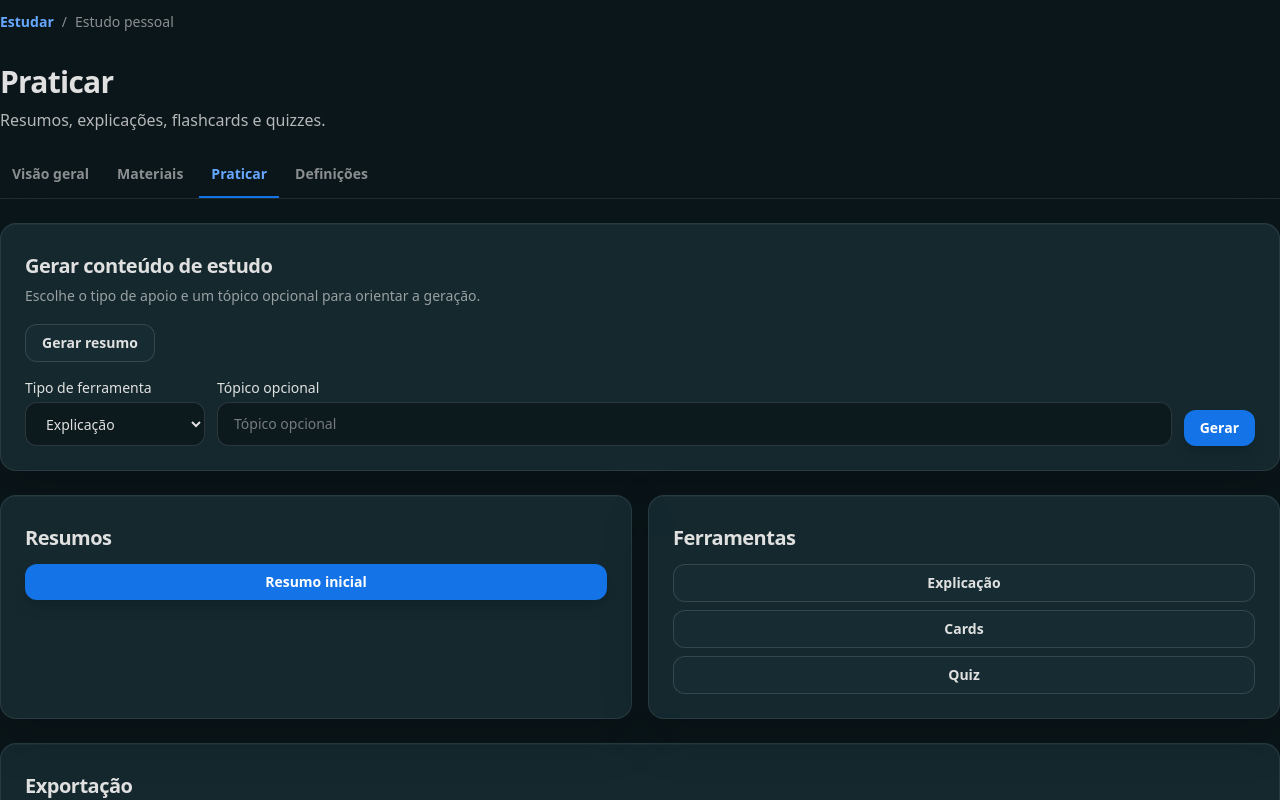
Test: StudyToolsPage › serializa resumo e ferramenta no mesmo ciclo assíncrono
Click the button "Gerar resumo" at (90, 343), box [25, 324, 155, 362]
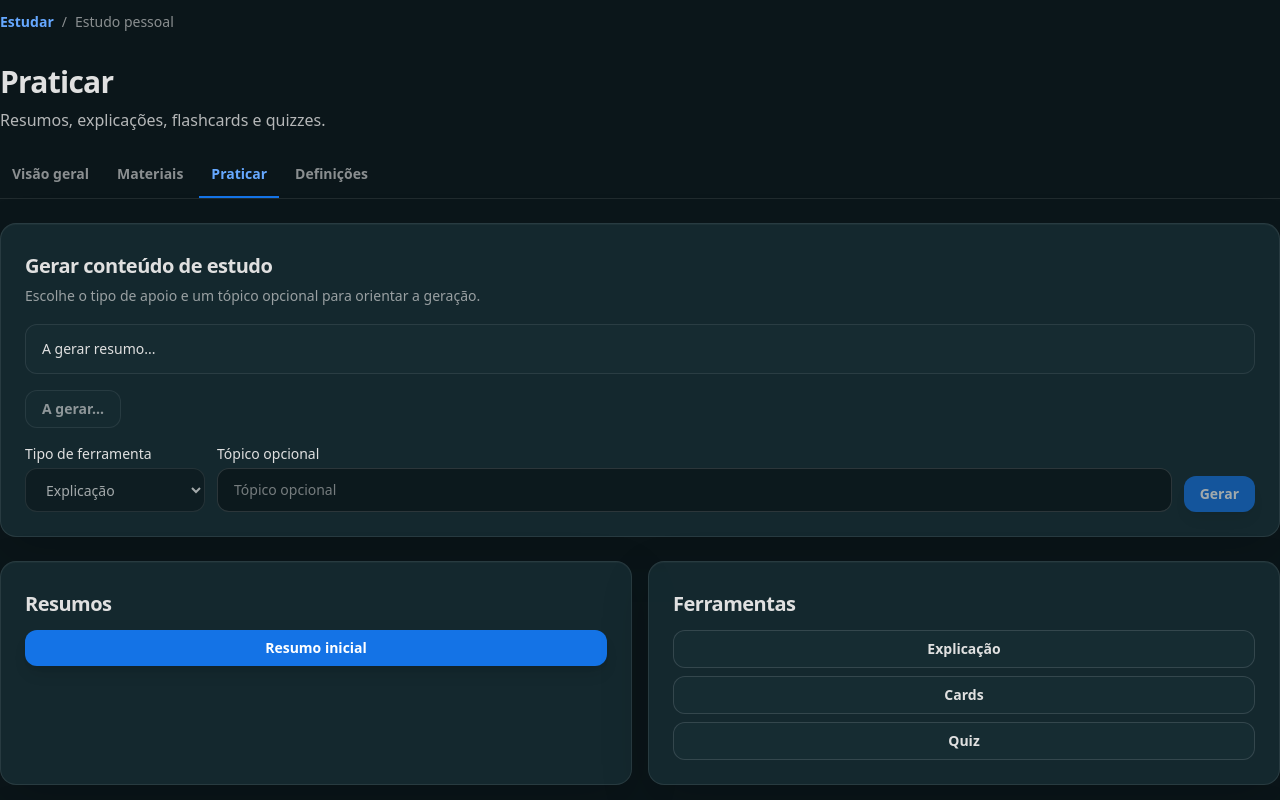
Check: the button "A gerar..." is disabled, box [25, 390, 121, 428]
Check: the button "Gerar" is disabled
Click the button "Gerar" at (1219, 494), box [1184, 476, 1255, 512]
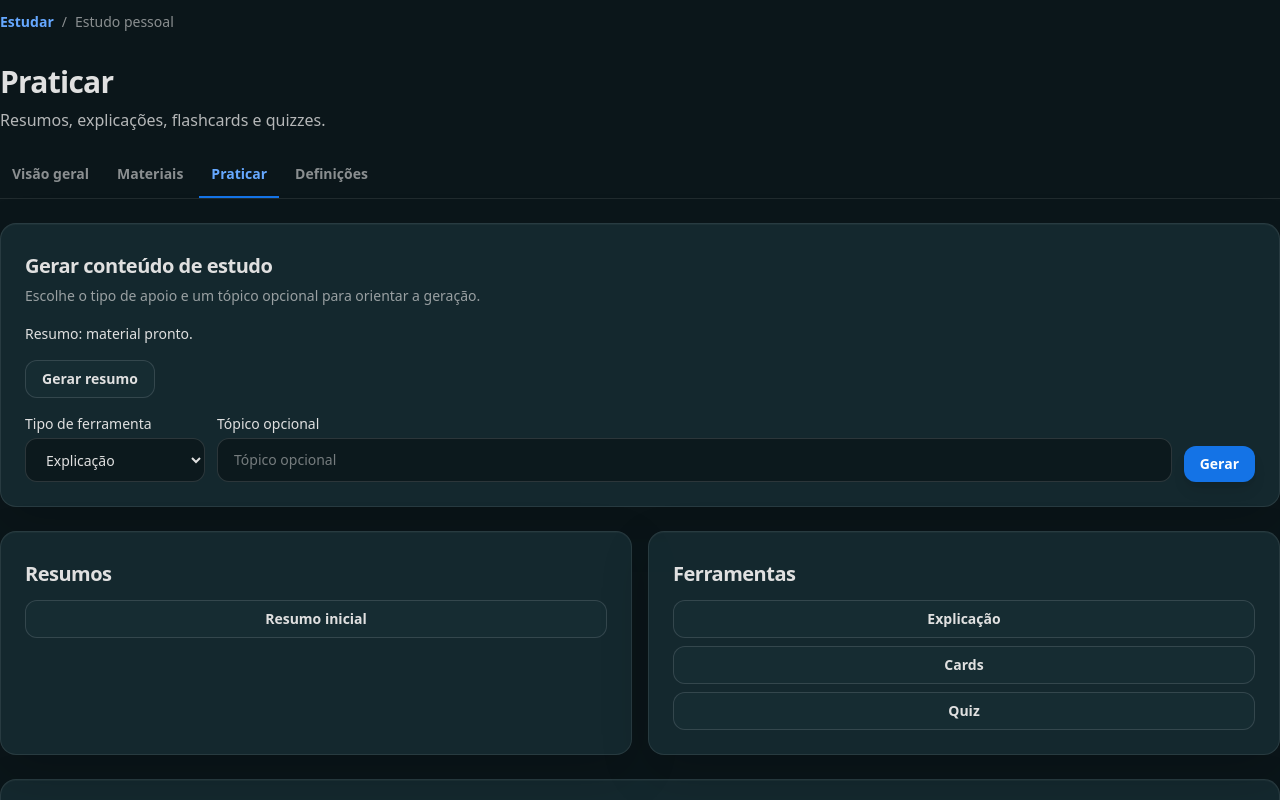
Check: the text "Resumo: material pronto." is shown, box [25, 324, 193, 343]
